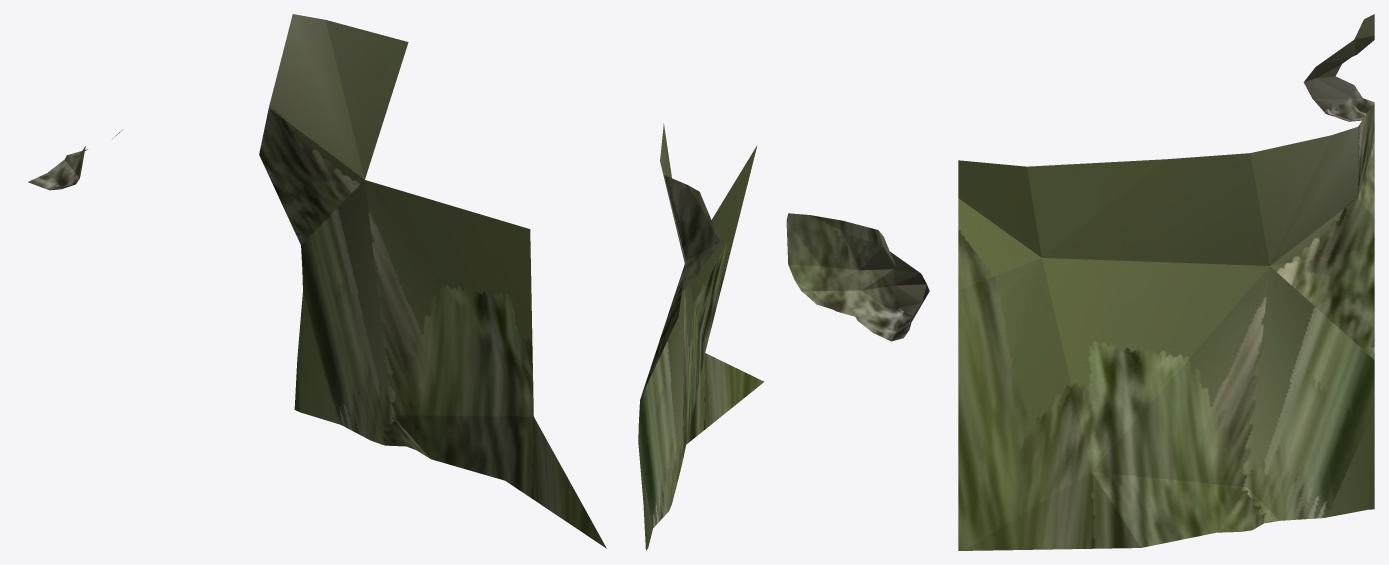
The picture shows the model from 3 angles, left to right: view 1: azimuth 30°, elevation 25°; view 2: azimuth 150°, elevation 25°; view 3: azimuth 270°, elevation 25°; orthographic projection. The views are drawn at different scales.
Bounding box in the file's own units: 2.83 × 2.95 × 2.95.
Materials: 3 (3 with a texture image).
